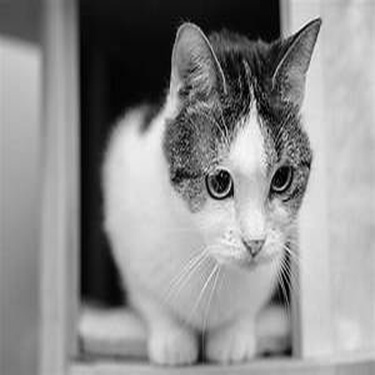cat: (102, 11, 324, 371)
